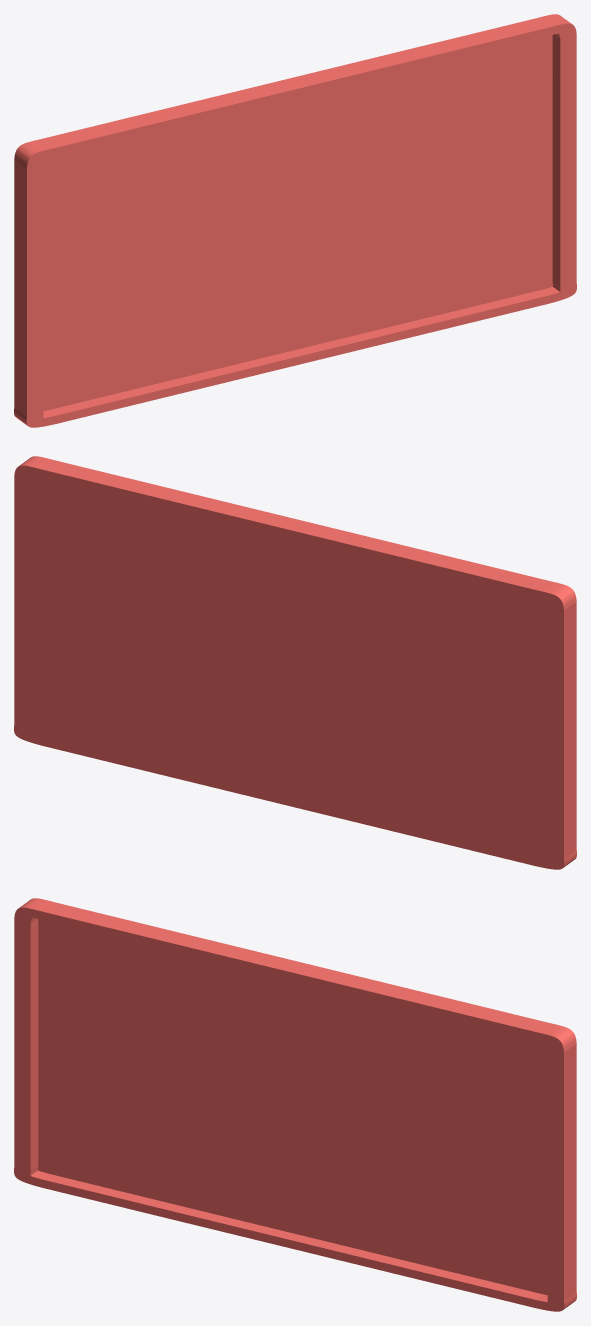
File: screen.fbx
3 renders of one model, top to bottom at view 1: azimuth 30°, elevation 25°; view 2: azimuth 150°, elevation 25°; view 3: azimuth 330°, elevation 25°, orthographic.
Visible parts, largest first — view 1: Cube; view 2: Cube; view 3: Cube.
Part boxes in pixels (x1,y1,x2,y2): Cube: (14, 14, 576, 427); Cube: (14, 456, 576, 869); Cube: (14, 898, 576, 1311).
Size of the model in its own units: 5004 by 2401 by 200.
